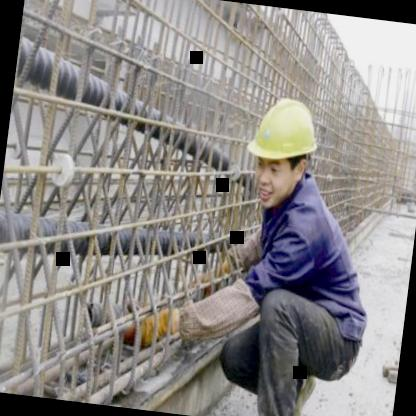helmet: (236, 83, 328, 218)
